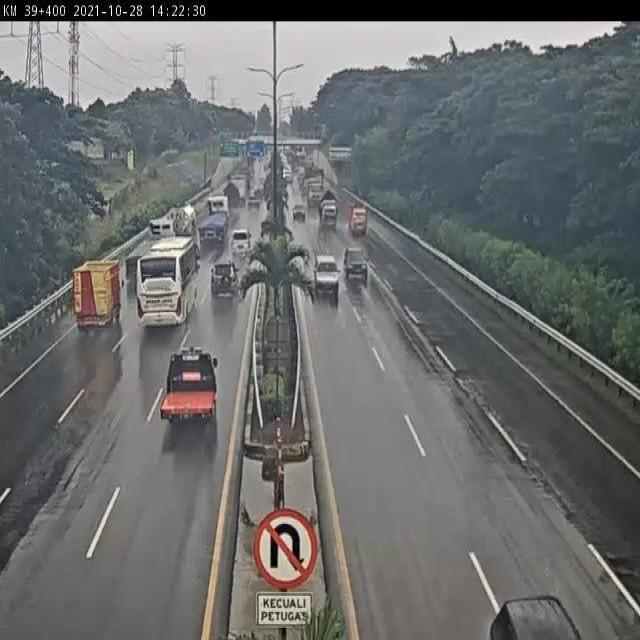bus-l-: (135, 236, 200, 329)
car: (344, 244, 369, 280), (231, 231, 252, 253)
truck-l-: (124, 217, 177, 272), (196, 193, 231, 248)
truck-m-: (162, 200, 198, 245)
truck-s-: (160, 344, 218, 419), (73, 258, 122, 334), (346, 193, 369, 235), (317, 188, 340, 228)
